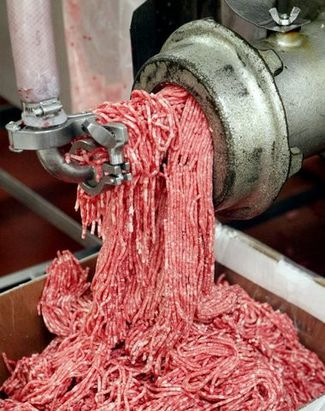ground_beef: (32, 345, 253, 411), (90, 250, 223, 334), (115, 84, 204, 185)
